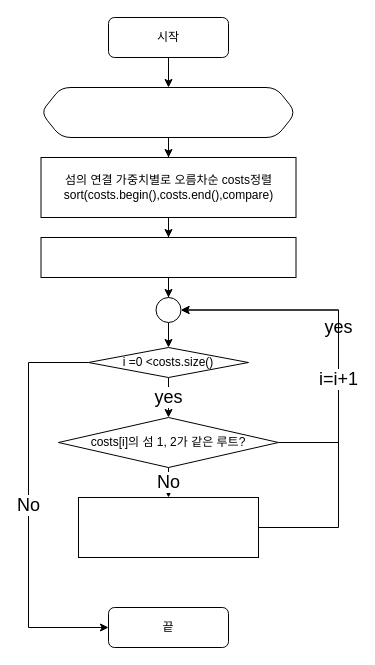
This 375x665 diagram has some shape labels left out. Here are the shapes that lost their labels. From the top down, the centre of each, then its label:
(x=168, y=112): 섬의 루트 노드를 저장하는 1차원 vector node N, answer costs 2차원 vector
(x=168, y=257): node vector resize N & value index로 초기화
(x=168, y=527): answer+=costs[i]의 cost 섬 1, 2merge
